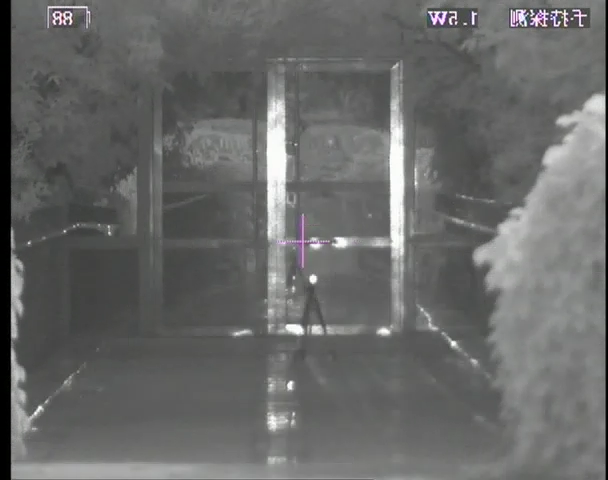my: (308, 274, 318, 284)
